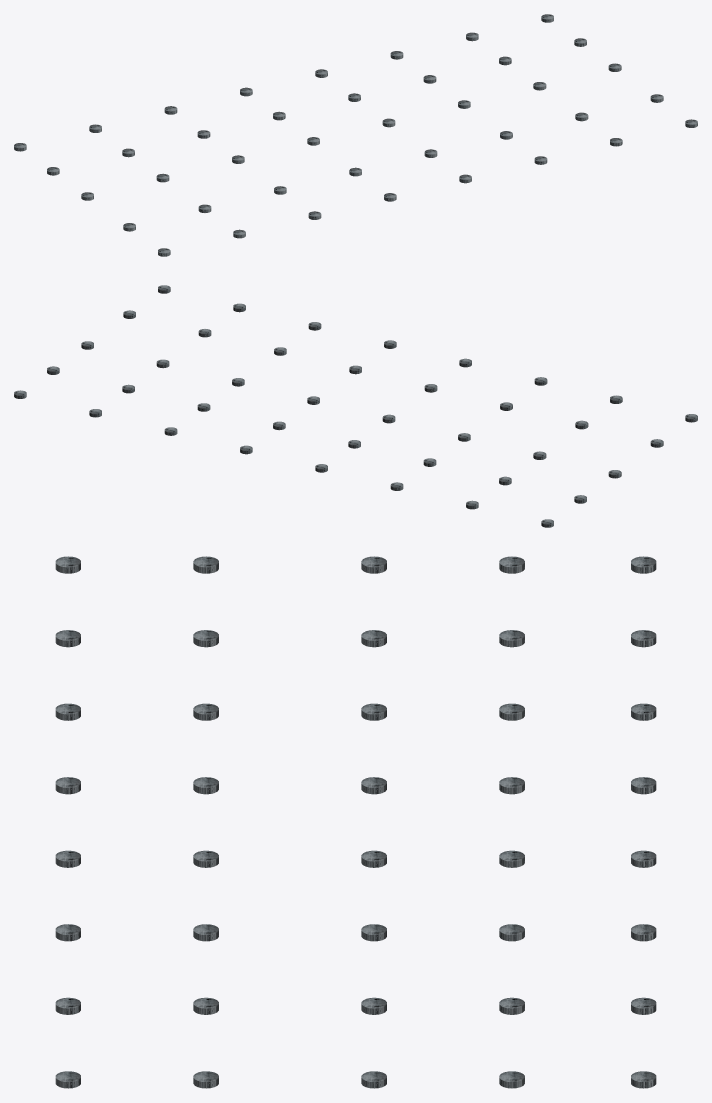
File: store_27.obj
3 views of the same model, one above another, from view 1: azimuth 30°, elevation 25°; view 2: azimuth 150°, elevation 25°; view 3: azimuth 270°, elevation 25° (orthographic). The views are drawn at different scales.
Bounding box in the file's own units: 731 × 4.13 × 353.
